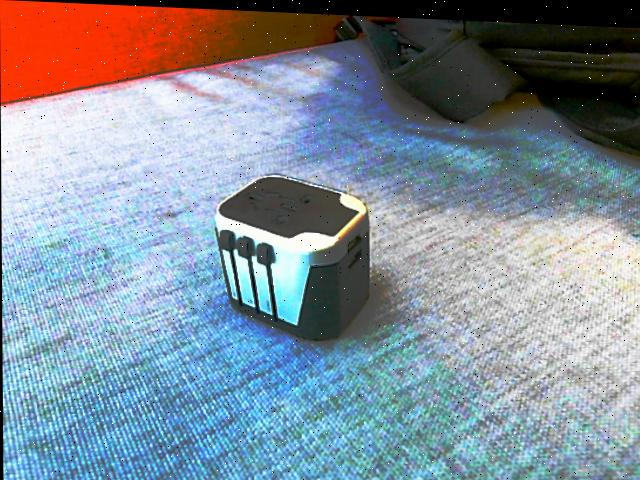adapter: (212, 169, 371, 339)
